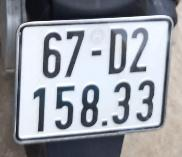1: (32, 86, 47, 133)
2: (129, 22, 152, 74)
3: (111, 77, 130, 128), (135, 78, 157, 122)
5: (49, 78, 77, 136)
6: (39, 29, 64, 83)
7: (61, 24, 87, 81)
8: (78, 80, 105, 132)
D: (108, 27, 129, 76)
